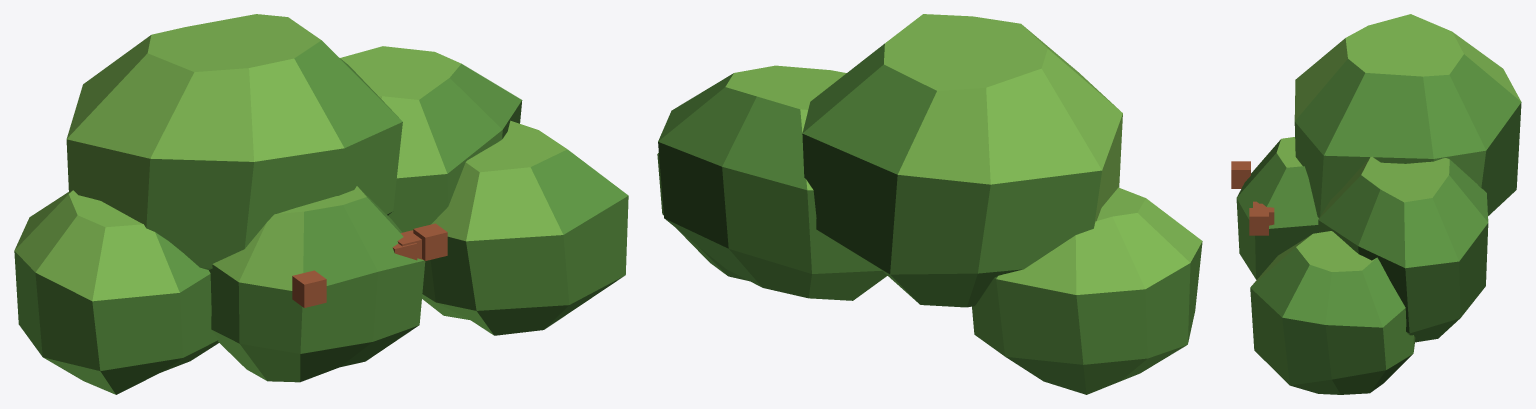
File: fg-bush-left.glb
3 views of the same model, side by side, from view 1: azimuth 30°, elevation 25°; view 2: azimuth 150°, elevation 25°; view 3: azimuth 270°, elevation 25° (orthographic). The views are drawn at different scales.
Parts seen in each view (by area): view 1: Bramble.001, Bramble.003, Bramble, Bramble.004, Bramble.002, Berry, Berry.004; view 2: Bramble.001, Bramble.002, Bramble, Bramble.003; view 3: Bramble.001, Bramble.003, Bramble.002, Bramble.004, Berry.004, Berry.
Part boxes in pixels (x1=…): Bramble.001: x1=66, y1=14, x2=402, y2=269; Bramble.003: x1=422, y1=120, x2=628, y2=335; Bramble: x1=14, y1=190, x2=218, y2=394; Bramble.004: x1=209, y1=186, x2=425, y2=382; Bramble.002: x1=340, y1=46, x2=522, y2=232; Berry: x1=292, y1=270, x2=326, y2=307; Berry.004: x1=413, y1=223, x2=447, y2=260; Bramble.001: x1=802, y1=14, x2=1122, y2=307; Bramble.002: x1=658, y1=65, x2=887, y2=300; Bramble: x1=972, y1=187, x2=1202, y2=394; Bramble.003: x1=657, y1=152, x2=749, y2=281; Bramble.001: x1=1294, y1=14, x2=1521, y2=217; Bramble.003: x1=1250, y1=231, x2=1415, y2=394; Bramble.002: x1=1318, y1=156, x2=1488, y2=342; Bramble.004: x1=1236, y1=137, x2=1318, y2=279; Berry.004: x1=1249, y1=208, x2=1268, y2=235; Berry: x1=1231, y1=161, x2=1250, y2=188.
Bounding box in the file's own units: 1.92 × 1.04 × 1.12.
